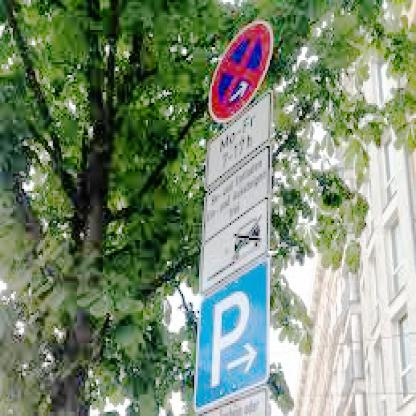Parking: (196, 264, 280, 399)
